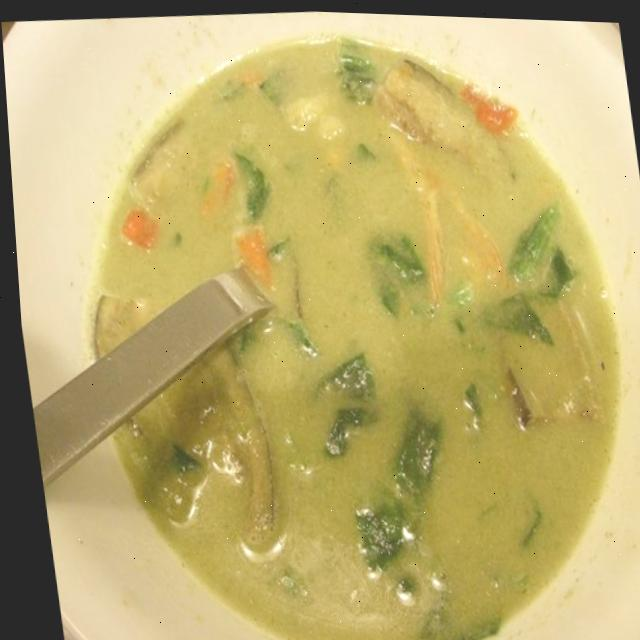鸡蛋料理: (31, 1, 625, 640)
